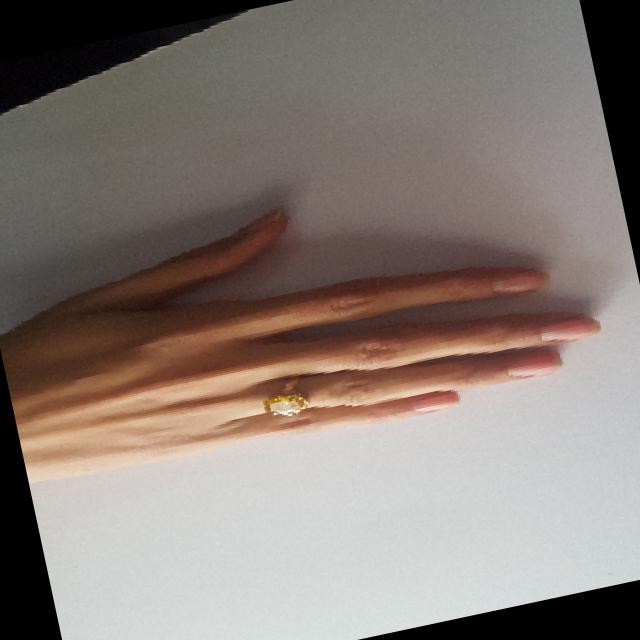Nail: (538, 315, 599, 341), (509, 348, 561, 376), (490, 268, 546, 292), (242, 201, 282, 233), (412, 389, 458, 411)
